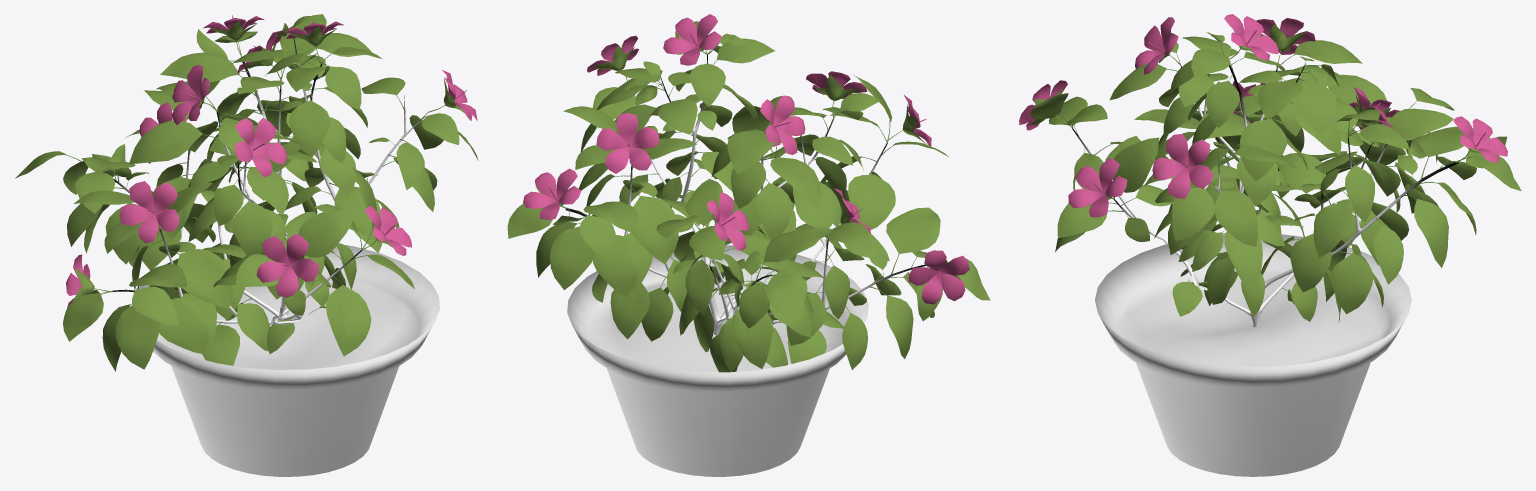
The model's file is PlantEdited.fbx.
3 renders of one model, left to right at view 1: azimuth 30°, elevation 25°; view 2: azimuth 150°, elevation 25°; view 3: azimuth 270°, elevation 25°, orthographic. The views are drawn at different scales.
Parts seen in each view (by area): view 1: Leaves, Pot1, Flowers, Bark; view 2: Leaves, Pot1, Flowers, Bark; view 3: Leaves, Pot1, Flowers, Bark.
Part boxes in pixels (x1=…): Leaves: x1=15, y1=14, x2=478, y2=371; Pot1: x1=132, y1=244, x2=439, y2=476; Flowers: x1=66, y1=16, x2=477, y2=308; Bark: x1=82, y1=38, x2=428, y2=324; Leaves: x1=507, y1=21, x2=990, y2=372; Pot1: x1=567, y1=245, x2=868, y2=476; Flowers: x1=523, y1=14, x2=969, y2=304; Bark: x1=565, y1=54, x2=926, y2=335; Leaves: x1=1030, y1=24, x2=1521, y2=322; Pot1: x1=1095, y1=234, x2=1411, y2=476; Flowers: x1=1019, y1=14, x2=1507, y2=217; Bark: x1=1072, y1=63, x2=1458, y2=327.
Size of the model in its own units: 1.59 by 1.58 by 1.66.
